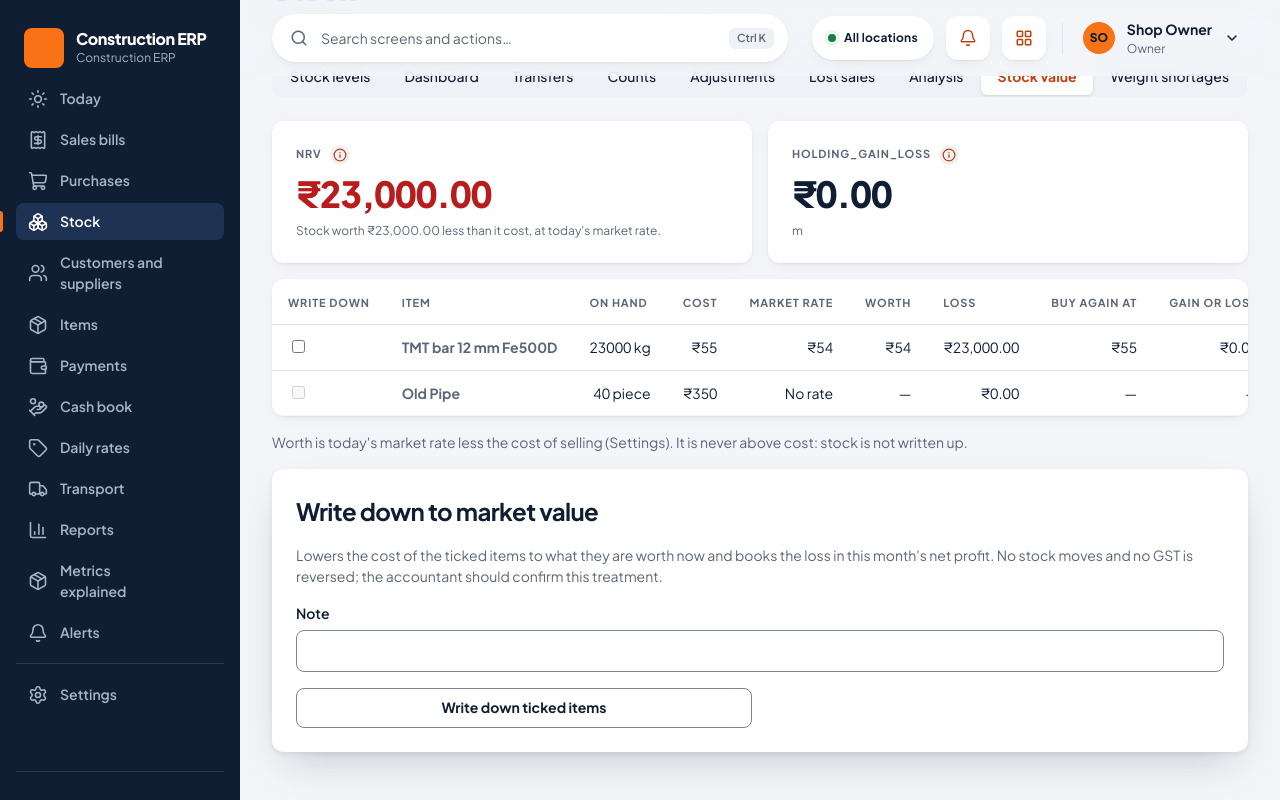
Scenario: Stock value › shows the loss against the market and lets the owner write it down
This screenshot has width=1280, height=800.
(page scrolled)
expect the text "₹23,000.00" is shown: met, box left=927, top=324, right=1035, bottom=370
expect the text "No rate" is shown: met, box left=734, top=370, right=849, bottom=416
Click the button "Write down ticked items" at (524, 708), box left=296, top=688, right=752, bottom=728
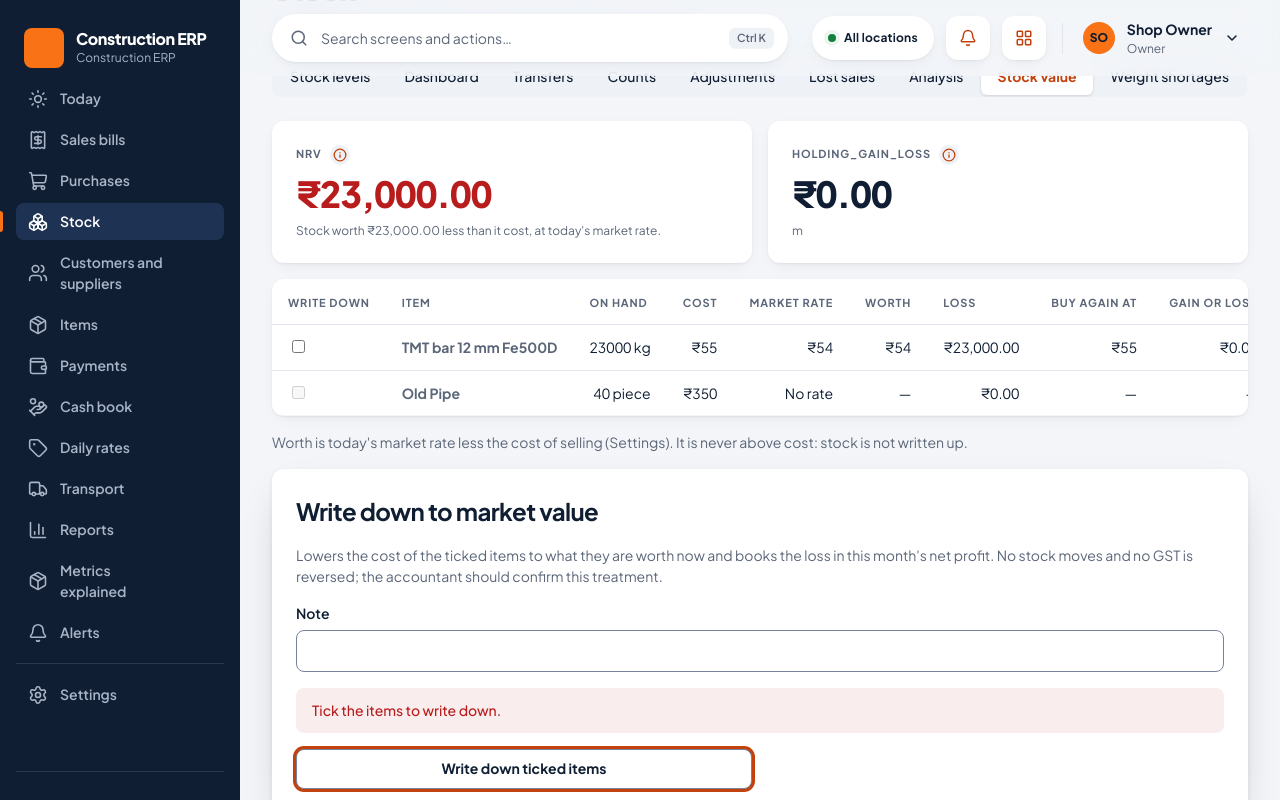
expect the text "Tick the items to write down." is shown: met, box left=296, top=688, right=1224, bottom=733
Click the checkbox named "Write down TMT bar 12 mm Fe500D" at (298, 346), box left=292, top=340, right=305, bottom=353
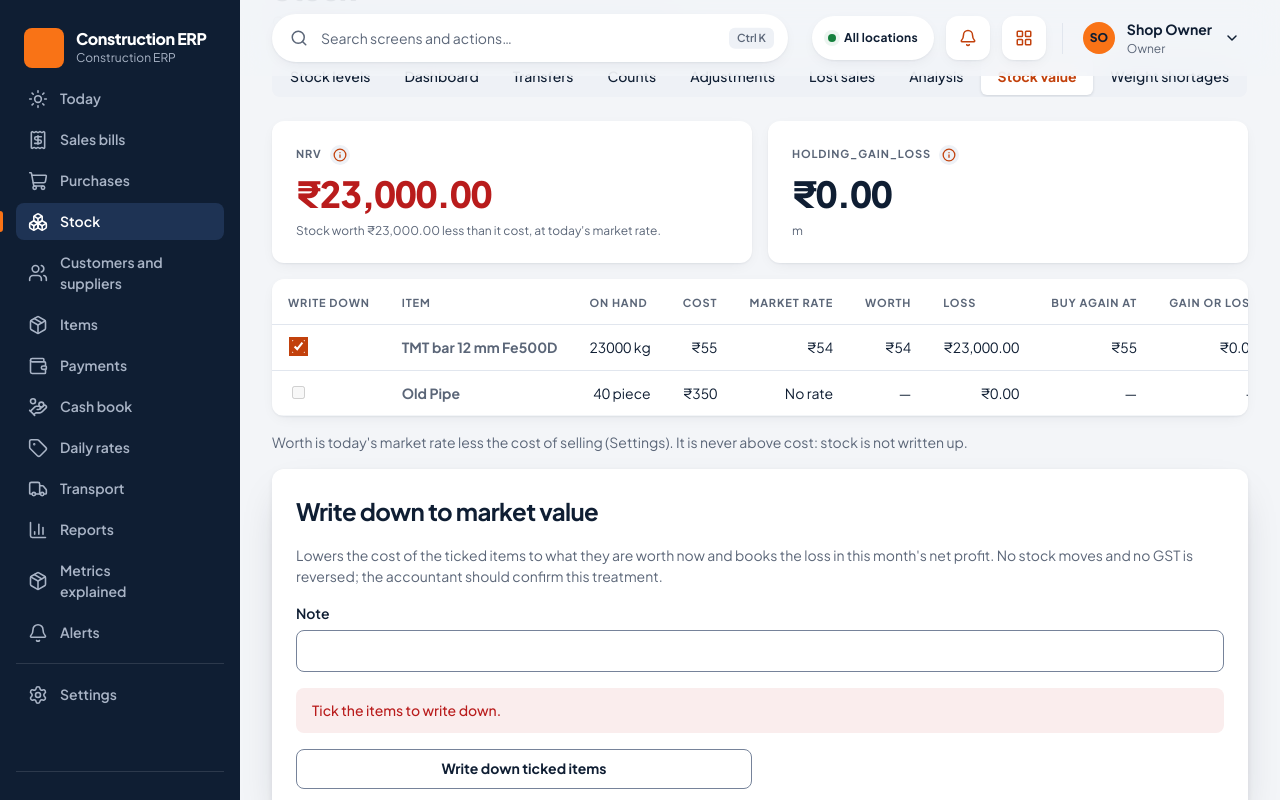
Type "Market fell" into the field labelled "Note" at (760, 651), box left=296, top=630, right=1224, bottom=672
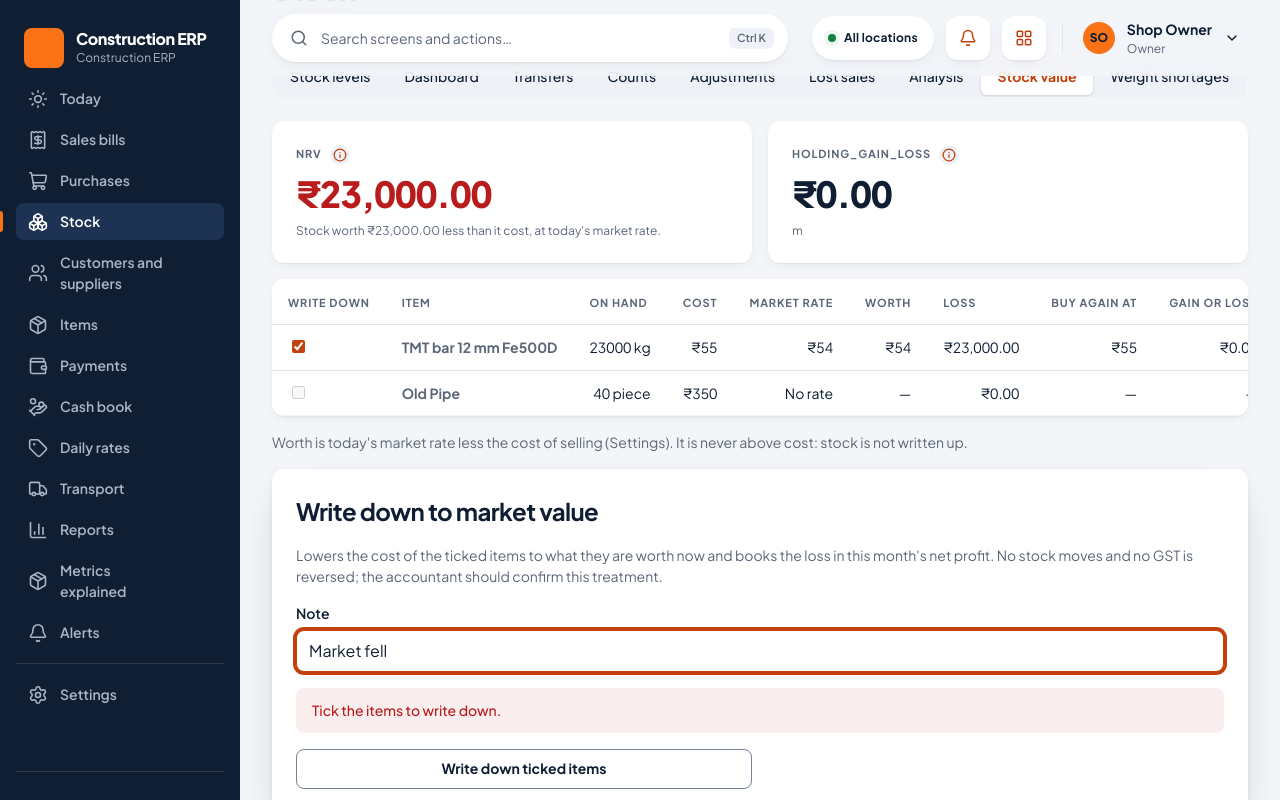
Click the button "Write down ticked items" at (524, 769), box left=296, top=749, right=752, bottom=789
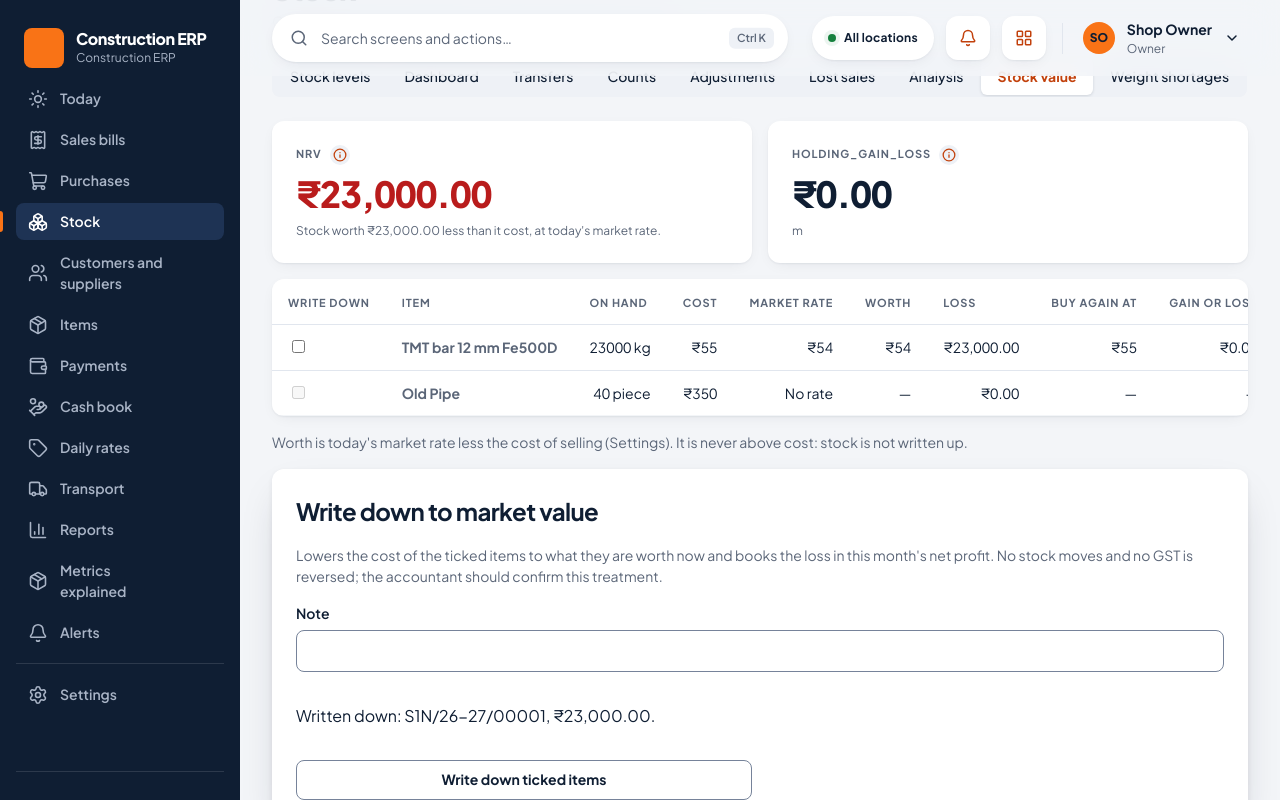
expect the text "Written down: S1N/26-27/00001, ₹23,000.00." is shown: met, box left=296, top=705, right=655, bottom=726
